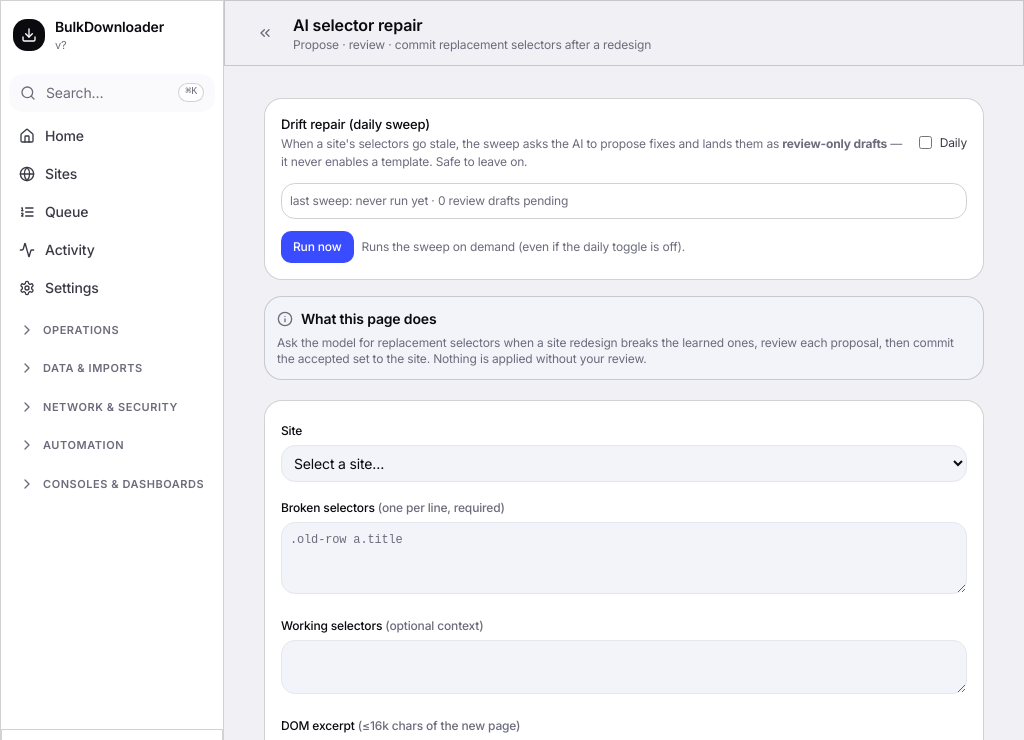
Test case: F2 AiTeach › F2: a removed-only plan shows the removed list and an enabled Commit
Select "Site A" in the dropdown at point(624, 463), box [281, 444, 967, 482]
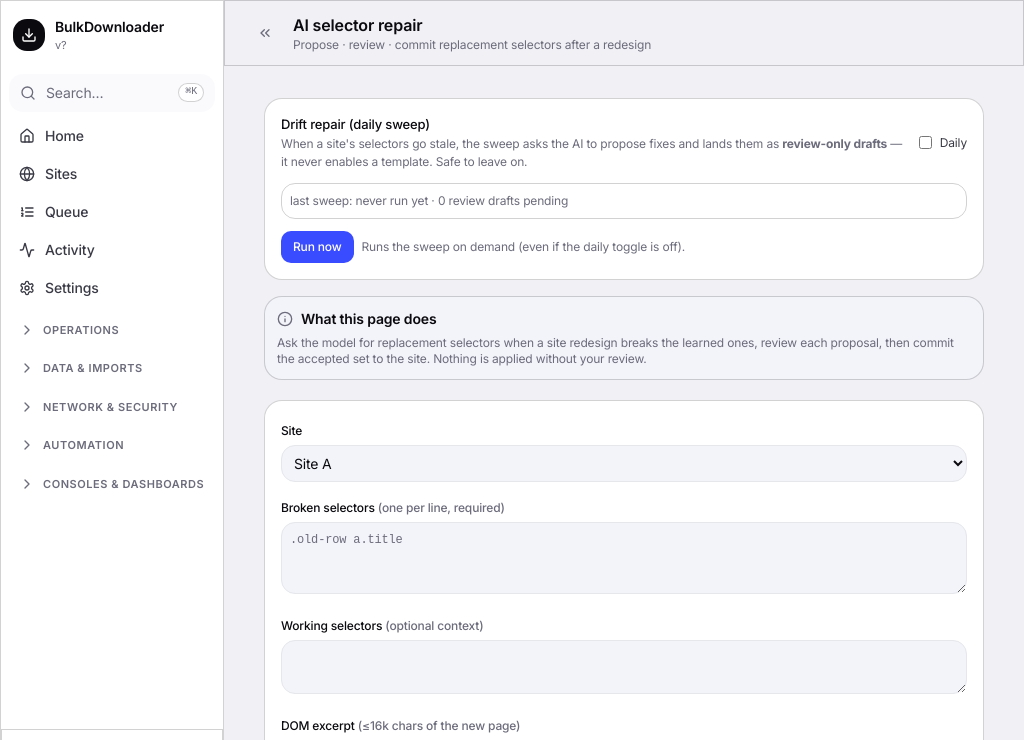
Type ".dead-only" into the text box with placeholder ".old-row a.title" at point(624, 558), box [281, 522, 967, 594]
(page scrolled)
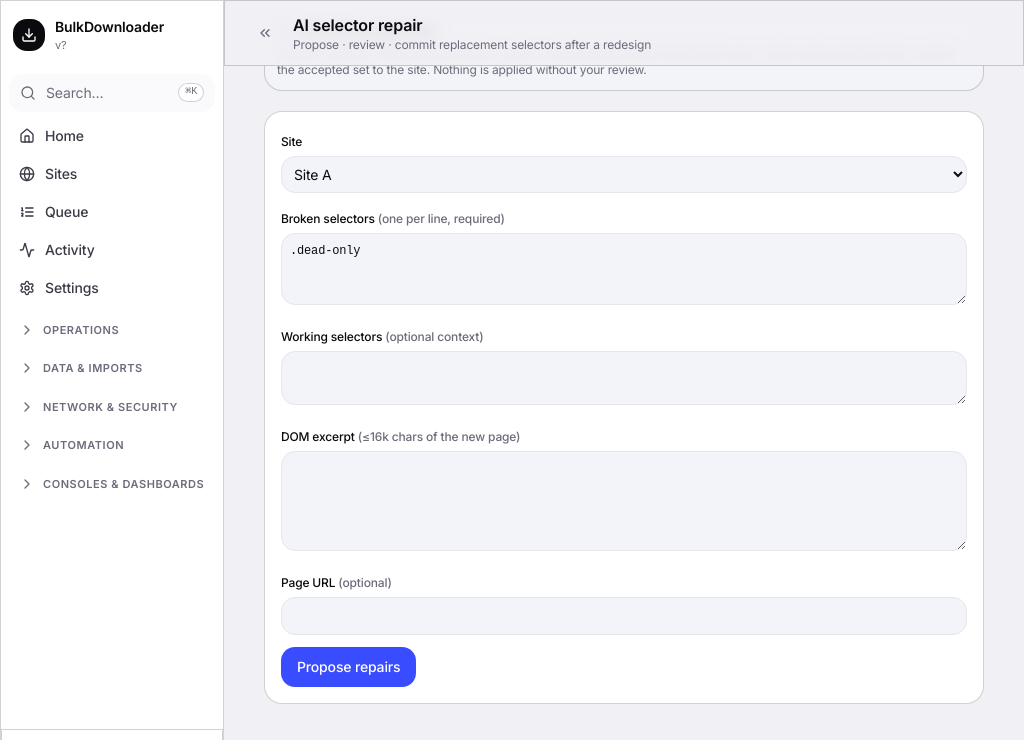
Click the button "Propose repairs" at point(349, 667), box [281, 647, 416, 687]
(page scrolled)
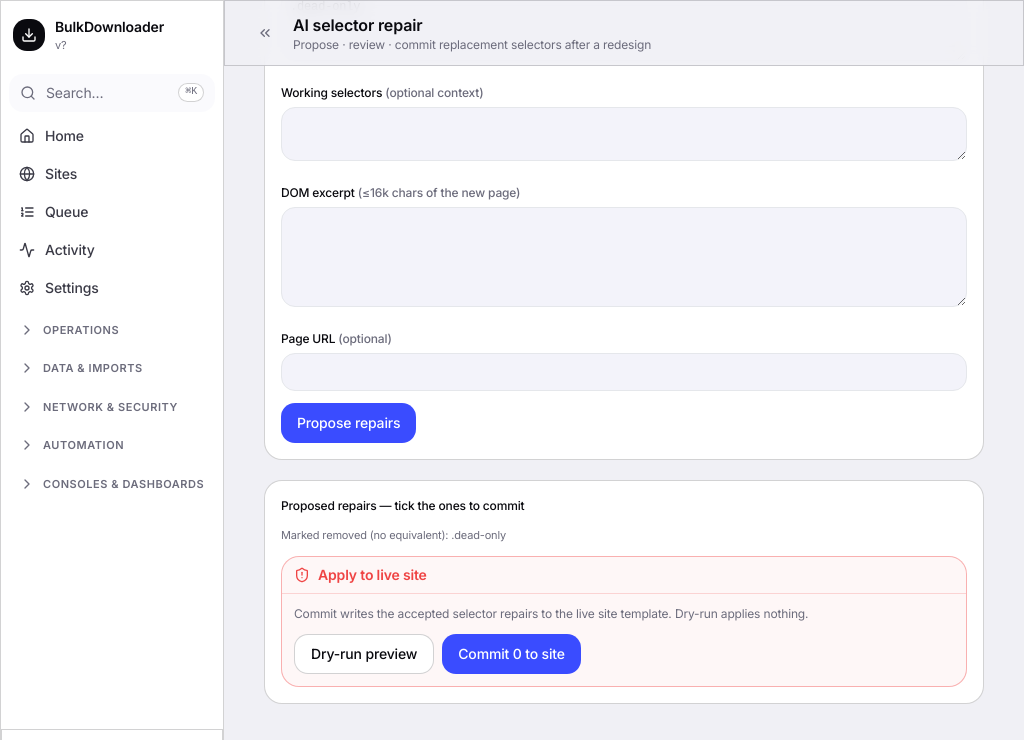
Result: the text "Marked removed (no equivalent): .dead-only" is shown at [281, 528, 506, 542]
Result: the button "Commit 0 to site" is enabled at [442, 634, 581, 674]
